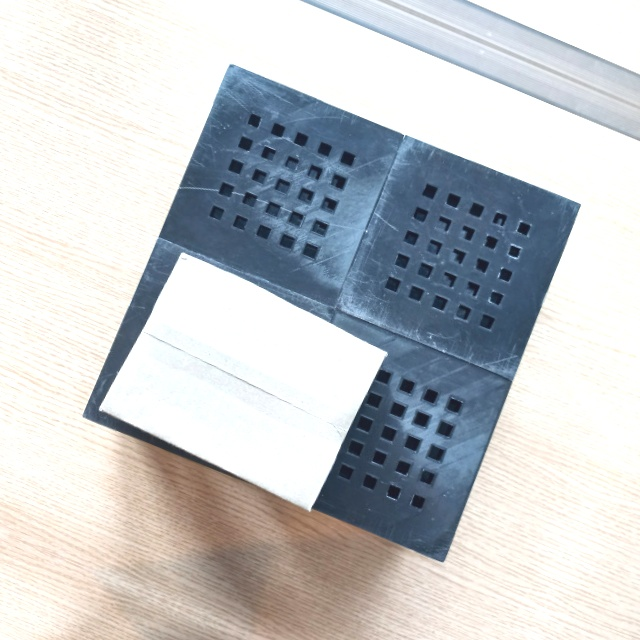box: (89, 247, 395, 523)
pallet: (67, 46, 591, 576)
